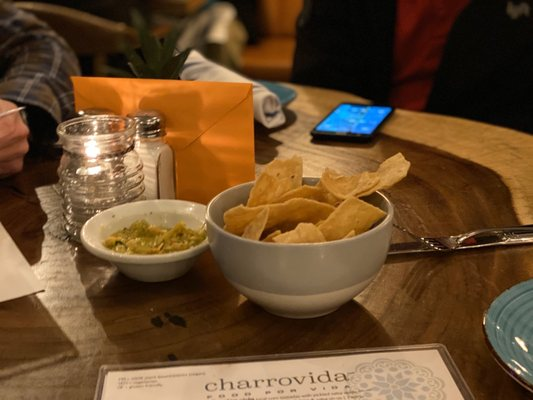salad: (387, 224, 533, 257)
sushi: (205, 175, 396, 319), (80, 198, 210, 283), (483, 278, 533, 395)
